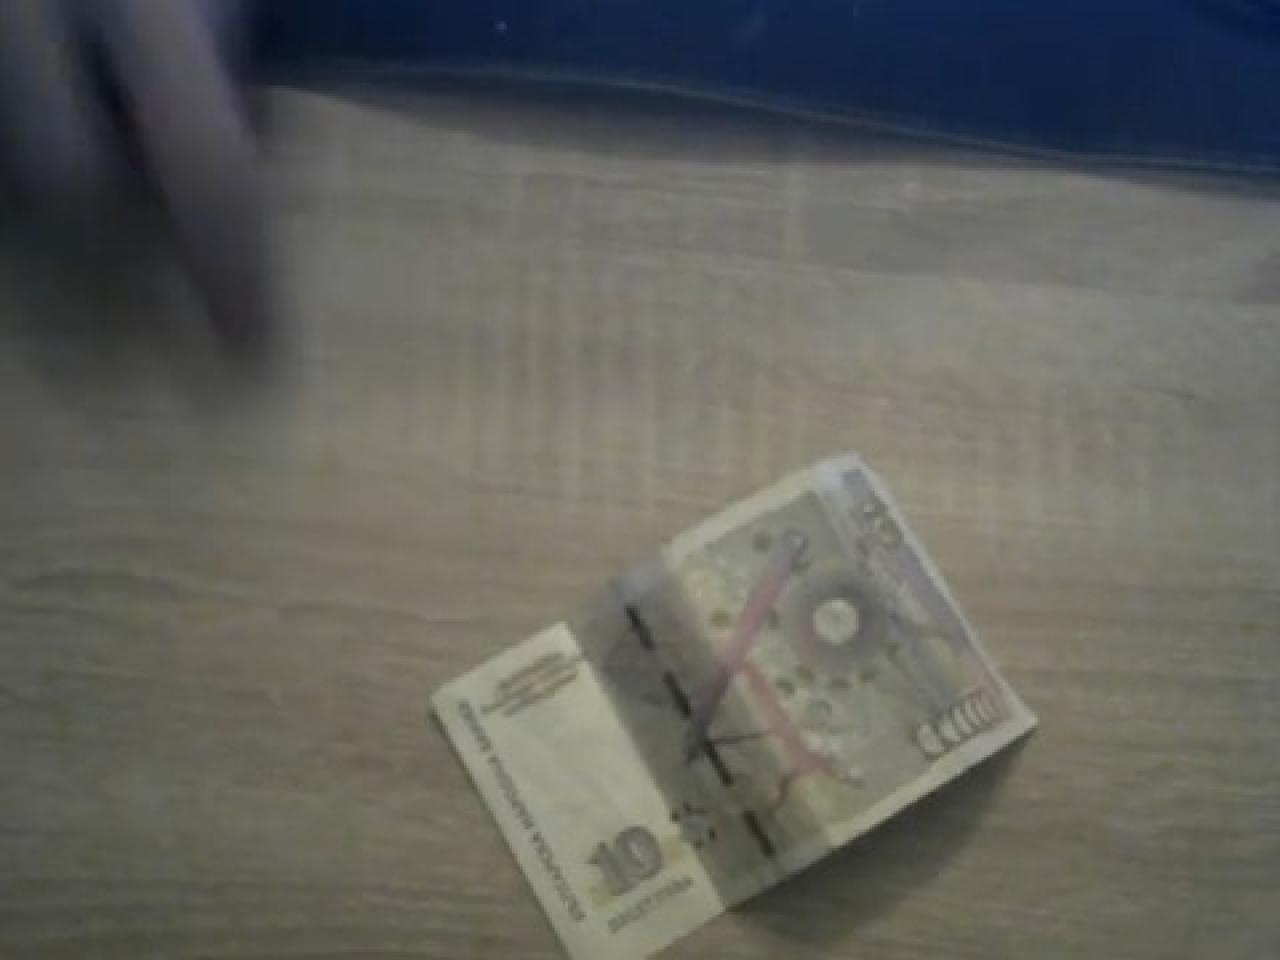10leva: (429, 454, 1037, 960)
